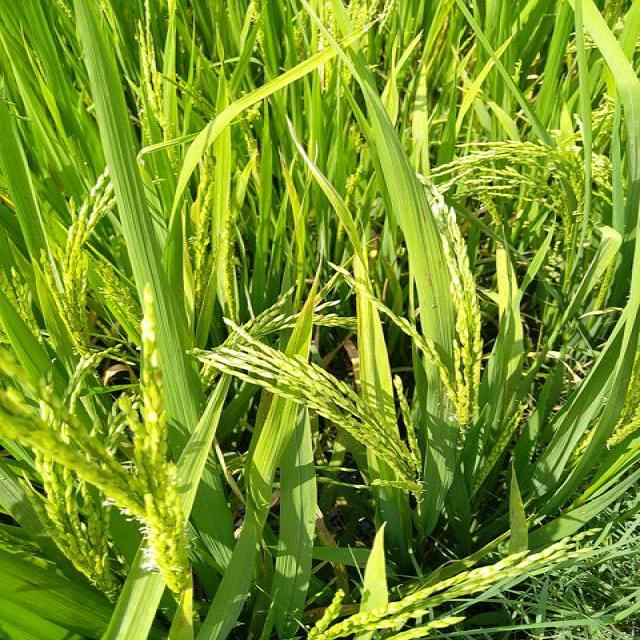Panicle Blight: (141, 369, 164, 419)
